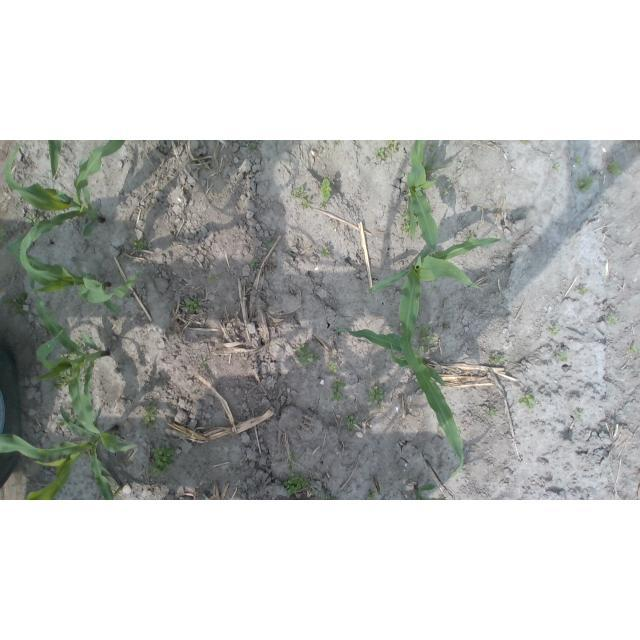Maize: (333, 327, 466, 482), (367, 237, 513, 375), (4, 141, 126, 256), (24, 276, 111, 425), (1, 408, 140, 501), (19, 218, 140, 317), (406, 141, 440, 256), (413, 484, 447, 501)
Weeds: (150, 444, 175, 477), (283, 471, 307, 496), (295, 342, 321, 365), (51, 368, 72, 392), (376, 140, 399, 160), (367, 381, 384, 405), (319, 179, 333, 208), (418, 325, 437, 344), (143, 405, 158, 428), (331, 379, 346, 401), (521, 393, 538, 412), (181, 297, 200, 313), (577, 175, 593, 193), (132, 236, 148, 252), (343, 412, 357, 429), (290, 185, 308, 197), (73, 340, 91, 352), (489, 353, 504, 367), (288, 453, 299, 471), (607, 161, 621, 175), (300, 195, 313, 210), (328, 360, 341, 373), (319, 244, 331, 257), (401, 222, 412, 236), (59, 352, 76, 361), (555, 350, 568, 361), (575, 408, 586, 420), (25, 214, 37, 224), (416, 347, 429, 356), (264, 239, 276, 248), (607, 316, 619, 325), (629, 344, 639, 354), (57, 419, 68, 428), (487, 405, 496, 416), (413, 215, 420, 228), (249, 260, 259, 269), (368, 490, 377, 500), (325, 492, 336, 500), (580, 287, 589, 296), (247, 140, 257, 148), (402, 211, 410, 221), (93, 411, 100, 422), (552, 326, 560, 335), (200, 358, 207, 367), (70, 415, 77, 424), (208, 275, 216, 282), (574, 156, 580, 164), (333, 140, 340, 146), (430, 140, 435, 148), (522, 141, 529, 146), (555, 163, 560, 169), (444, 190, 449, 195), (40, 217, 45, 222), (610, 427, 615, 432), (415, 324, 420, 328)
